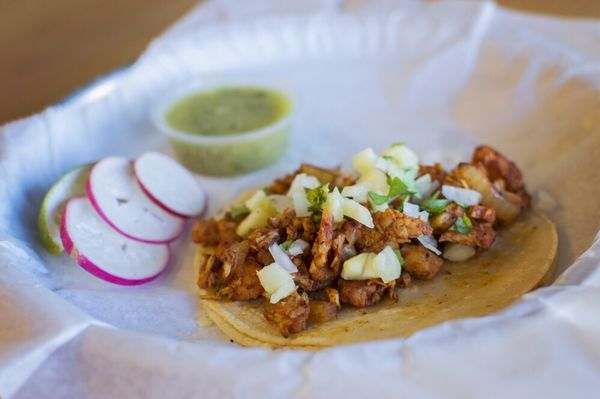pizza: (34, 150, 209, 287)
sushi: (156, 82, 299, 179)
